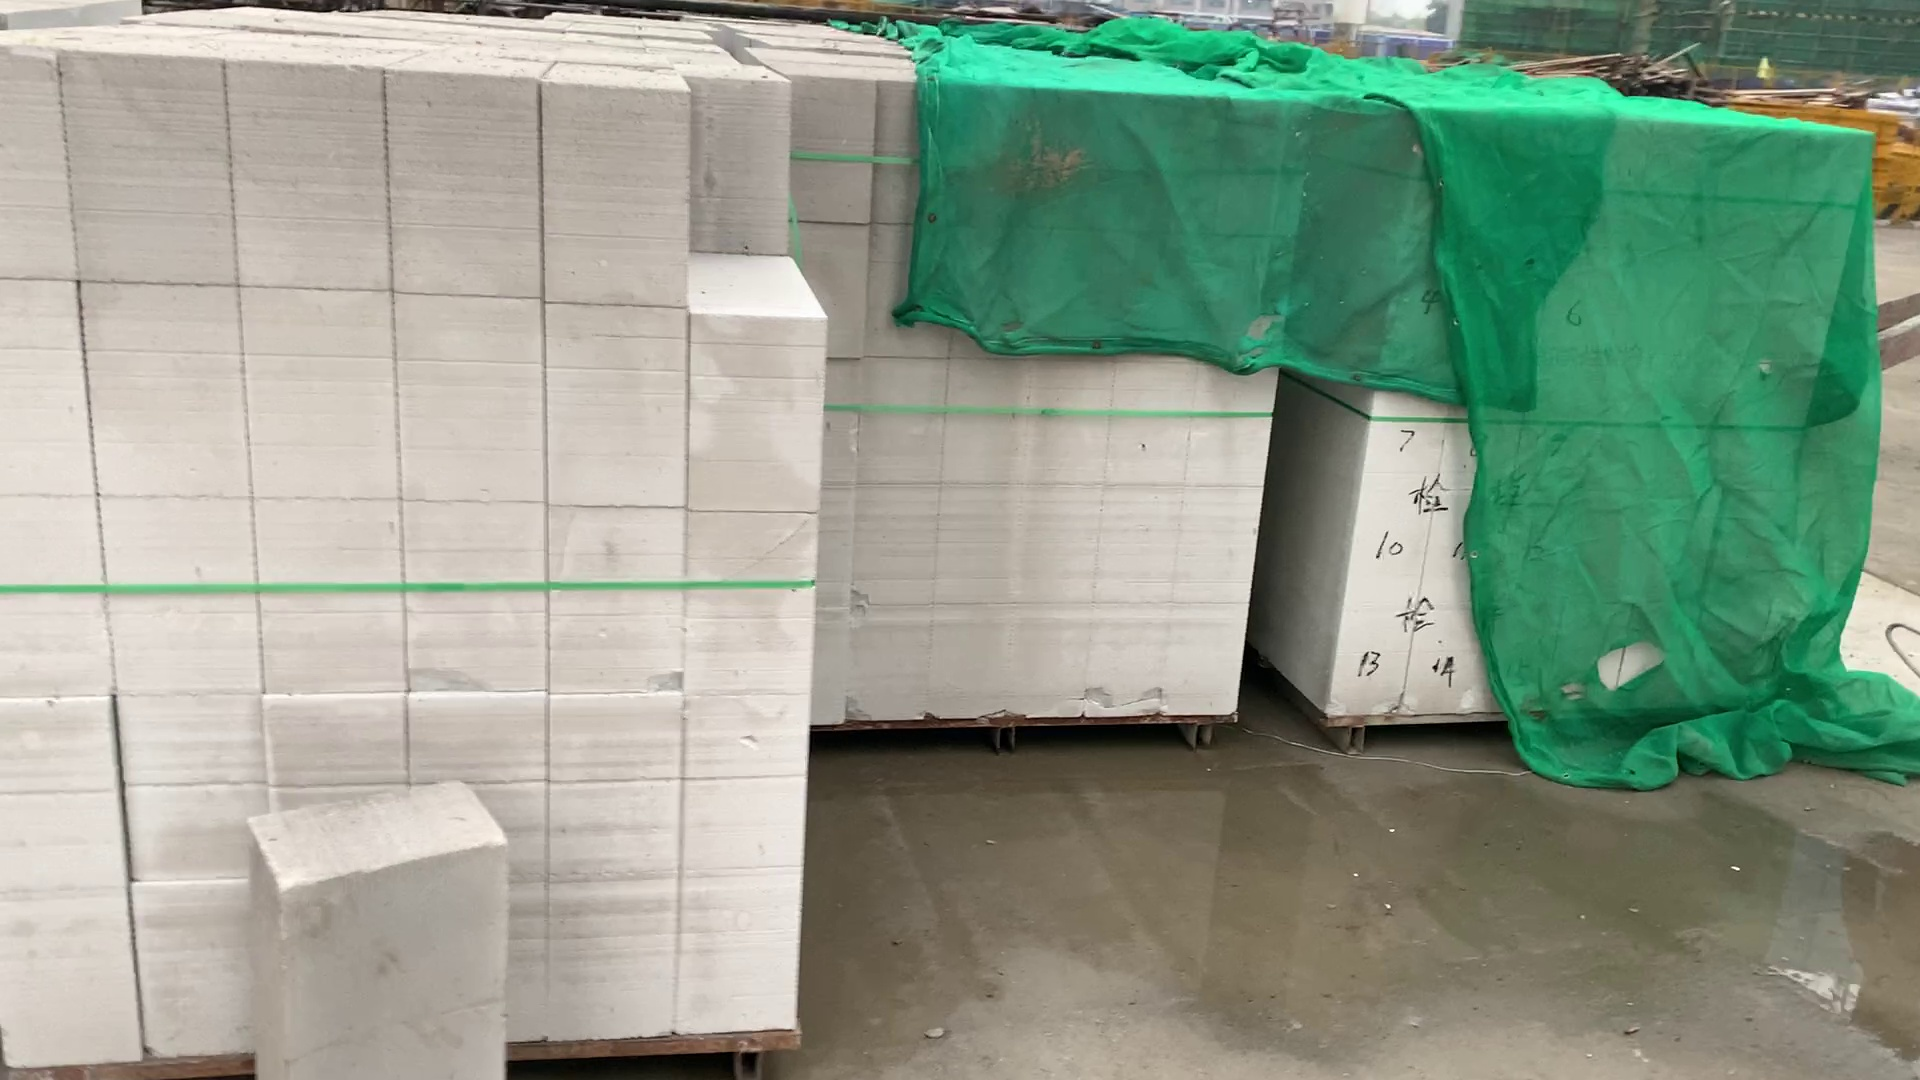brickwork: (3, 34, 816, 1060), (775, 53, 1246, 735), (1349, 123, 1869, 731)
